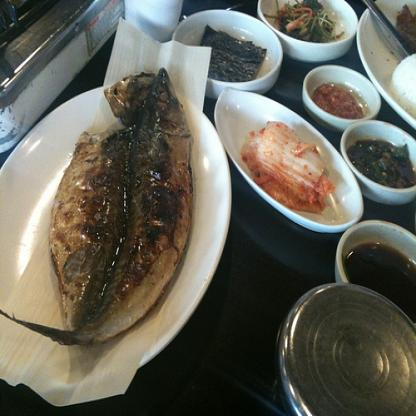Peixe: (23, 52, 194, 379)
